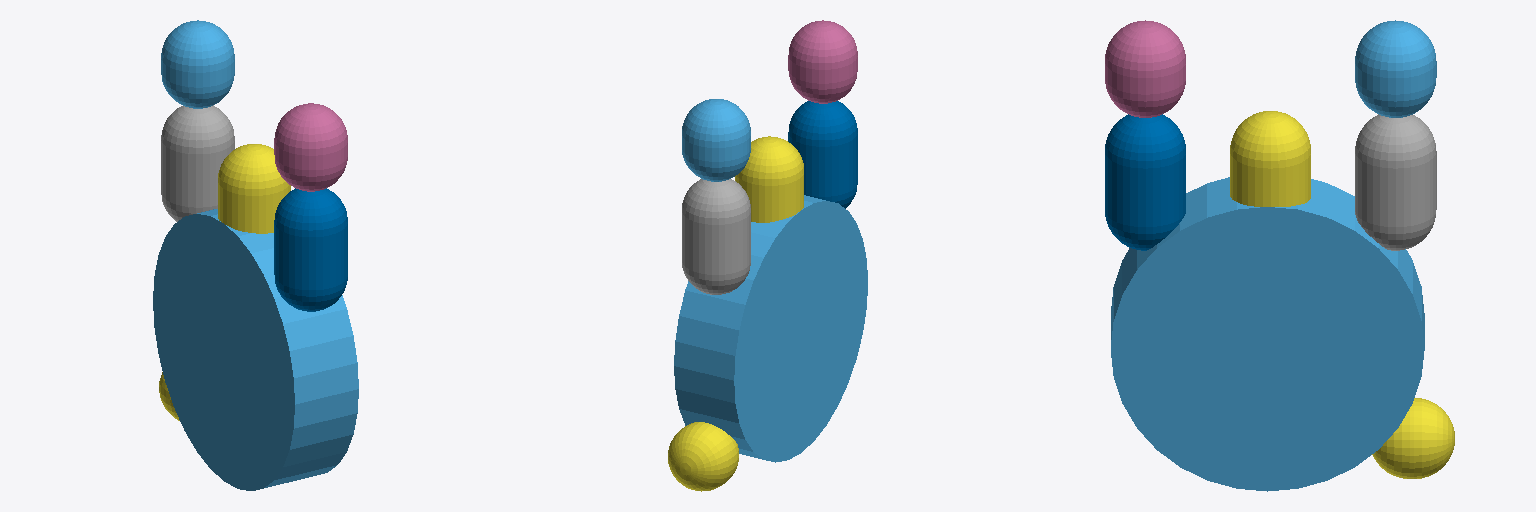
URDF robot description (DexterousHand):
<?xml version="1.0"?>
<robot name="DexterousHand">


    <link name="world"/>
    <joint name="world_to_palm" type="fixed">
        <parent link="world"/>
        <child link="palm"/>
        <origin xyz="0 0 0" rpy="0 0 0"/>
    </joint>
    <link name="palm">
        <inertial>
            <origin xyz="0 0 0.057" rpy="0 0 0"/>
            <mass value="0.30212892864"/>
            <inertia ixx="0.00049080844457568" ixy="0.0" ixz="0.0" iyy="0.00026746366246427523" iyz="0.0" izz="0.00026746366246427523"/>
        </inertial>
        <visual>
            <origin xyz="0 0 0.057" rpy="1.5708 0 1.5708"/>
            <geometry>
                <cylinder radius="0.057" length="0.0296"/>
            </geometry>
            <material name="default"/>
        </visual>
        <collision>
            <origin xyz="0 0 0.057" rpy="1.5708 0 1.5708"/>
            <geometry>
                <cylinder radius="0.057" length="0.0296"/>
            </geometry>
        </collision>
    </link>

    
    <joint name="thumb_joint1" type="revolute">
        <parent link="palm"/>
        <child link="thumb_base"/>
        <origin xyz="0.0029 0.0368 0.0157" rpy="-1.5708 -1.5708 0.0"/>
        <axis xyz="-1 0 0"/>
        <limit lower="-0.349" upper="2.094" effort="1.0" velocity="1.0"/>
    </joint>

    <link name="thumb_base"></link>

    <joint name="thumb_joint2" type="revolute">
        <parent link="thumb_base"/>
        <child link="thumb_proximal"/>
        <origin xyz="0.0 0.0 0.0" rpy="0.0 0.0 0.0"/>
        <axis xyz="0 0 1"/>
        <limit lower="-0.47" upper="2.443" effort="1.0" velocity="1.0"/>
    </joint>

    <link name="thumb_proximal">
        <inertial>
            <origin xyz="0 0 0.01565" rpy="0 0 0"/>
            <mass value="0.021538658803200002"/>
            <inertia ixx="2.9378910096388167e-06" ixy="0.0" ixz="0.0" 
            iyy="2.9378910096388167e-06" iyz="0.0" izz="2.358913912126464e-06"/>
        </inertial>
        <visual>
            <origin xyz="0 0 0.01565" rpy="0 0 0"/>
            <geometry>
                <cylinder radius="0.0148" length="0.0017000000000000001"/>
            </geometry>
            <material name="default"/>
        </visual>
        <visual>
            <origin xyz="0 0 0.0148" rpy="0 0 0"/>
            <geometry>
                <sphere radius="0.0148"/>
            </geometry>
            <material name="default"/>
        </visual>
        <visual>
            <origin xyz="0 0 0.0165" rpy="0 0 0"/>
            <geometry>
                <sphere radius="0.0148"/>
            </geometry>
            <material name="default"/>
        </visual>
        <collision>
            <origin xyz="0 0 0.01565" rpy="0 0 0"/>
            <geometry>
                <cylinder radius="0.0148" length="0.0017000000000000001"/>
            </geometry>
        </collision>
        <collision>
            <origin xyz="0 0 0.0148" rpy="0 0 0"/>
            <geometry>
                <sphere radius="0.0148"/>
            </geometry>
        </collision>
        <collision>
            <origin xyz="0 0 0.0165" rpy="0 0 0"/>
            <geometry>
                <sphere radius="0.0148"/>
            </geometry>
        </collision>
    </link>

    <joint name="thumb_joint3" type="revolute">
        <parent link="thumb_proximal"/>
        <child link="thumb_knuckle"/>
        <origin xyz="0.0 0.0 0.0" rpy="0.0 0.0 0.0"/>
        <axis xyz="1 0 0"/>
        <limit lower="0.0" upper="0.0" effort="1.0" velocity="1.0"/>
    </joint>

    <link name="thumb_knuckle"></link>

    <joint name="thumb_joint4" type="revolute">
        <parent link="thumb_knuckle"/>
        <child link="thumb_middle"/>
        <origin xyz="0 0 0" rpy="0 0 0"/> 
        <axis xyz="0 1 0"/>
        <limit lower="0.0" upper="0.0" effort="1.0" velocity="1.0"/>
    </joint>

    <link name="thumb_middle">
    </link>

    <joint name="thumb_joint5" type="revolute">
        <parent link="thumb_middle"/>
        <child link="thumb_distal"/>
        <origin xyz="0 0 0" rpy="0 0 0"/> 
        <axis xyz="0 1 0"/>
        <limit lower="0.0" upper="0.0" effort="1.0" velocity="1.0"/>
    </joint>

    <link name="thumb_distal">
    </link>

    
    <joint name="index_joint1" type="revolute">
        <parent link="palm"/>
        <child link="index_proximal"/>
        <origin xyz="0.0 0.0465 0.091" rpy="0.0 0.0 0.0"/>
        <axis xyz="0 1 0"/>
        <limit lower="-0.314" upper="2.23" effort="1.0" velocity="1.0"/>
    </joint>

    <link name="index_proximal">
        <inertial>
            <origin xyz="0 0 0.02655" rpy="0 0 0"/>
            <mass value="0.036540024998400006"/>
            <inertia ixx="1.058665009272394e-05" ixy="0.0" ixz="0.0" 
            iyy="1.058665009272394e-05" iyz="0.0" izz="4.001863537824769e-06"/>
        </inertial>
        <visual>
            <origin xyz="0 0 0.02655" rpy="0 0 0"/>
            <geometry>
                <cylinder radius="0.0148" length="0.0235"/>
            </geometry>
            <material name="default"/>
        </visual>
        <visual>
            <origin xyz="0 0 0.0148" rpy="0 0 0"/>
            <geometry>
                <sphere radius="0.0148"/>
            </geometry>
            <material name="default"/>
        </visual>
        <visual>
            <origin xyz="0 0 0.0383" rpy="0 0 0"/>
            <geometry>
                <sphere radius="0.0148"/>
            </geometry>
            <material name="default"/>
        </visual>
        <collision>
            <origin xyz="0 0 0.02655" rpy="0 0 0"/>
            <geometry>
                <cylinder radius="0.0148" length="0.0235"/>
            </geometry>
        </collision>
        <collision>
            <origin xyz="0 0 0.0148" rpy="0 0 0"/>
            <geometry>
                <sphere radius="0.0148"/>
            </geometry>
        </collision>
        <collision>
            <origin xyz="0 0 0.0383" rpy="0 0 0"/>
            <geometry>
                <sphere radius="0.0148"/>
            </geometry>
        </collision>
    </link>

    <joint name="index_joint2" type="revolute">
        <parent link="index_proximal"/>
        <child link="index_dummy"/>
        <origin xyz="0.0 0.0 0.038" rpy="0.0 0.0 0.0"/>
        <axis xyz="1 0 0"/>
        <limit lower="-1.047" upper="1.047" effort="1.0" velocity="1.0"/>
    </joint>

    <link name="index_dummy"></link>

    <joint name="index_joint3" type="revolute">
        <parent link="index_dummy"/>
        <child link="index_middle"/>
        <origin xyz="0 0 0.015100000000000002" rpy="0 0 0"/>
        <axis xyz="0 1 0"/>
        <limit lower="-0.506" upper="1.885" effort="1.0" velocity="1.0"/>
    </joint>

    <link name="index_middle">
        <inertial>
            <origin xyz="0 0 0.01805" rpy="0 0 0"/>
            <mass value="0.0248417119104"/>
            <inertia ixx="4.058162759109537e-06" ixy="0.0" ixz="0.0" 
            iyy="4.058162759109537e-06" iyz="0.0" izz="2.7206642884270085e-06"/>
        </inertial>
        <visual>
            <origin xyz="0 0 0.01805" rpy="0 0 0"/>
            <geometry>
                <cylinder radius="0.0148" length="0.006499999999999999"/>
            </geometry>
            <material name="default"/>
        </visual>
        <visual>
            <origin xyz="0 0 0.0148" rpy="0 0 0"/>
            <geometry>
                <sphere radius="0.0148"/>
            </geometry>
            <material name="default"/>
        </visual>
        <visual>
            <origin xyz="0 0 0.0213" rpy="0 0 0"/>
            <geometry>
                <sphere radius="0.0148"/>
            </geometry>
            <material name="default"/>
        </visual>
        <collision>
            <origin xyz="0 0 0.01805" rpy="0 0 0"/>
            <geometry>
                <cylinder radius="0.0148" length="0.006499999999999999"/>
            </geometry>
        </collision>
        <collision>
            <origin xyz="0 0 0.0148" rpy="0 0 0"/>
            <geometry>
                <sphere radius="0.0148"/>
            </geometry>
        </collision>
        <collision>
            <origin xyz="0 0 0.0213" rpy="0 0 0"/>
            <geometry>
                <sphere radius="0.0148"/>
            </geometry>
        </collision>
    </link>

    <joint name="index_joint4" type="revolute">
        <parent link="index_middle"/>
        <child link="index_distal"/>
        <origin xyz="0 0 0.0361" rpy="0 0 0"/> 
        <axis xyz="0 1 0"/>
        <limit lower="0.0" upper="0.0" effort="1.0" velocity="1.0"/>
    </joint>

    <link name="index_distal">
    </link>

    
    <joint name="middle_joint1" type="revolute">
        <parent link="palm"/>
        <child link="middle_proximal"/>
        <origin xyz="0.0 0.0011 0.091" rpy="0.0 0.0 0.0"/>
        <axis xyz="0 1 0"/>
        <limit lower="-0.314" upper="2.23" effort="1.0" velocity="1.0"/>
    </joint>

    <link name="middle_proximal">
        <inertial>
            <origin xyz="0 0 0.02655" rpy="0 0 0"/>
            <mass value="0.036540024998400006"/>
            <inertia ixx="1.058665009272394e-05" ixy="0.0" ixz="0.0" 
            iyy="1.058665009272394e-05" iyz="0.0" izz="4.001863537824769e-06"/>
        </inertial>
        <visual>
            <origin xyz="0 0 0.02655" rpy="0 0 0"/>
            <geometry>
                <cylinder radius="0.0148" length="0.0235"/>
            </geometry>
            <material name="default"/>
        </visual>
        <visual>
            <origin xyz="0 0 0.0148" rpy="0 0 0"/>
            <geometry>
                <sphere radius="0.0148"/>
            </geometry>
            <material name="default"/>
        </visual>
        <visual>
            <origin xyz="0 0 0.0383" rpy="0 0 0"/>
            <geometry>
                <sphere radius="0.0148"/>
            </geometry>
            <material name="default"/>
        </visual>
        <collision>
            <origin xyz="0 0 0.02655" rpy="0 0 0"/>
            <geometry>
                <cylinder radius="0.0148" length="0.0235"/>
            </geometry>
        </collision>
        <collision>
            <origin xyz="0 0 0.0148" rpy="0 0 0"/>
            <geometry>
                <sphere radius="0.0148"/>
            </geometry>
        </collision>
        <collision>
            <origin xyz="0 0 0.0383" rpy="0 0 0"/>
            <geometry>
                <sphere radius="0.0148"/>
            </geometry>
        </collision>
    </link>

    <joint name="middle_joint2" type="revolute">
        <parent link="middle_proximal"/>
        <child link="middle_dummy"/>
        <origin xyz="0.0 0.0 0.038" rpy="0.0 0.0 0.0"/>
        <axis xyz="0 1 0"/>
        <limit lower="0.0" upper="0.0" effort="1.0" velocity="1.0"/>
    </joint>

    <link name="middle_dummy"></link>

    <joint name="middle_joint3" type="revolute">
        <parent link="middle_dummy"/>
        <child link="middle_middle"/>
        <origin xyz="0 0 0.015100000000000002" rpy="0 0 0"/>
        <axis xyz="0 1 0"/>
        <limit lower="0.0" upper="0.0" effort="1.0" velocity="1.0"/>
    </joint>

    <link name="middle_middle">
    </link>

    <joint name="middle_joint4" type="revolute">
        <parent link="middle_middle"/>
        <child link="middle_distal"/>
        <origin xyz="0 0 0" rpy="0 0 0"/> 
        <axis xyz="0 1 0"/>
        <limit lower="0.0" upper="0.0" effort="1.0" velocity="1.0"/>
    </joint>

    <link name="middle_distal">
    </link>

    
    <joint name="ring_joint1" type="revolute">
        <parent link="palm"/>
        <child link="ring_proximal"/>
        <origin xyz="0.0 0.0 0.0" rpy="0.0 0.0 0.0"/>
        <axis xyz="1 0 0"/>
        <limit lower="0.0" upper="0.0" effort="1.0" velocity="1.0"/>
    </joint>

    <link name="ring_proximal">
    </link>

    <joint name="ring_joint2" type="revolute">
        <parent link="ring_proximal"/>
        <child link="ring_dummy"/>
        <origin xyz="0.0 0.0 0.0" rpy="0.0 0.0 0.0"/>
        <axis xyz="0 1 0"/>
        <limit lower="0.0" upper="0.0" effort="1.0" velocity="1.0"/>
    </joint>

    <link name="ring_dummy"></link>

    <joint name="ring_joint3" type="revolute">
        <parent link="ring_dummy"/>
        <child link="ring_middle"/>
        <origin xyz="0 0 0" rpy="0 0 0"/>
        <axis xyz="0 1 0"/>
        <limit lower="0.0" upper="0.0" effort="1.0" velocity="1.0"/>
    </joint>

    <link name="ring_middle">
    </link>

    <joint name="ring_joint4" type="revolute">
        <parent link="ring_middle"/>
        <child link="ring_distal"/>
        <origin xyz="0 0 0" rpy="0 0 0"/> 
        <axis xyz="0 1 0"/>
        <limit lower="0.0" upper="0.0" effort="1.0" velocity="1.0"/>
    </joint>

    <link name="ring_distal">
    </link>

    
    <joint name="little_joint0" type="revolute">
        <parent link="palm"/>
        <child link="little_base"/>
        <origin xyz="0.0 0.0 0.0" rpy="0.0 0.0 0.0"/>
        <axis xyz="0 1 0"/>
        <limit lower="0.0" upper="0.0" effort="1.0" velocity="1.0"/>
    </joint>

    <link name="little_base"></link>

    <joint name="little_joint1" type="revolute">
        <parent link="little_base"/>
        <child link="little_proximal"/>
        <origin xyz="0.0 -0.0443 0.091" rpy="-0.0 -0.0 -0.0"/>
        <axis xyz="0 1 0"/>
        <limit lower="-0.314" upper="2.23" effort="1.0" velocity="1.0"/>
    </joint>

    <link name="little_proximal">
        <inertial>
            <origin xyz="0 0 0.02655" rpy="0 0 0"/>
            <mass value="0.036540024998400006"/>
            <inertia ixx="1.058665009272394e-05" ixy="0.0" ixz="0.0" 
            iyy="1.058665009272394e-05" iyz="0.0" izz="4.001863537824769e-06"/>
        </inertial>
        <visual>
            <origin xyz="0 0 0.02655" rpy="0 0 0"/>
            <geometry>
                <cylinder radius="0.0148" length="0.0235"/>
            </geometry>
            <material name="default"/>
        </visual>
        <visual>
            <origin xyz="0 0 0.0148" rpy="0 0 0"/>
            <geometry>
                <sphere radius="0.0148"/>
            </geometry>
            <material name="default"/>
        </visual>
        <visual>
            <origin xyz="0 0 0.0383" rpy="0 0 0"/>
            <geometry>
                <sphere radius="0.0148"/>
            </geometry>
            <material name="default"/>
        </visual>
        <collision>
            <origin xyz="0 0 0.02655" rpy="0 0 0"/>
            <geometry>
                <cylinder radius="0.0148" length="0.0235"/>
            </geometry>
        </collision>
        <collision>
            <origin xyz="0 0 0.0148" rpy="0 0 0"/>
            <geometry>
                <sphere radius="0.0148"/>
            </geometry>
        </collision>
        <collision>
            <origin xyz="0 0 0.0383" rpy="0 0 0"/>
            <geometry>
                <sphere radius="0.0148"/>
            </geometry>
        </collision>
    </link>

    <joint name="little_joint2" type="revolute">
        <parent link="little_proximal"/>
        <child link="little_dummy"/>
        <origin xyz="0.0 0.0 0.038" rpy="0.0 0.0 0.0"/>
        <axis xyz="1 0 0"/>
        <limit lower="-1.047" upper="1.047" effort="1.0" velocity="1.0"/>
    </joint>

    <link name="little_dummy"></link>

    <joint name="little_joint3" type="revolute">
        <parent link="little_dummy"/>
        <child link="little_middle"/>
        <origin xyz="0 0 0.015100000000000002" rpy="0 0 0"/>
        <axis xyz="0 1 0"/>
        <limit lower="-0.506" upper="1.885" effort="1.0" velocity="1.0"/>
    </joint>

    <link name="little_middle">
        <inertial>
            <origin xyz="0 0 0.01805" rpy="0 0 0"/>
            <mass value="0.0248417119104"/>
            <inertia ixx="4.058162759109537e-06" ixy="0.0" ixz="0.0" 
            iyy="4.058162759109537e-06" iyz="0.0" izz="2.7206642884270085e-06"/>
        </inertial>
        <visual>
            <origin xyz="0 0 0.01805" rpy="0 0 0"/>
            <geometry>
                <cylinder radius="0.0148" length="0.006499999999999999"/>
            </geometry>
            <material name="default"/>
        </visual>
        <visual>
            <origin xyz="0 0 0.0148" rpy="0 0 0"/>
            <geometry>
                <sphere radius="0.0148"/>
            </geometry>
            <material name="default"/>
        </visual>
        <visual>
            <origin xyz="0 0 0.0213" rpy="0 0 0"/>
            <geometry>
                <sphere radius="0.0148"/>
            </geometry>
            <material name="default"/>
        </visual>
        <collision>
            <origin xyz="0 0 0.01805" rpy="0 0 0"/>
            <geometry>
                <cylinder radius="0.0148" length="0.006499999999999999"/>
            </geometry>
        </collision>
        <collision>
            <origin xyz="0 0 0.0148" rpy="0 0 0"/>
            <geometry>
                <sphere radius="0.0148"/>
            </geometry>
        </collision>
        <collision>
            <origin xyz="0 0 0.0213" rpy="0 0 0"/>
            <geometry>
                <sphere radius="0.0148"/>
            </geometry>
        </collision>
    </link>

    <joint name="little_joint4" type="revolute">
        <parent link="little_middle"/>
        <child link="little_distal"/>
        <origin xyz="0 0 0.0361" rpy="0 0 0"/>
        <axis xyz="0 1 0"/>
        <limit lower="0.0" upper="0.0" effort="1.0" velocity="1.0"/>
    </joint>

    <link name="little_distal">
    </link>

</robot>

--- What the picture shows (computed from the rendered views, not written in the file) ---
The picture shows the robot from 3 angles, left to right: view 1: azimuth 30°, elevation 25°; view 2: azimuth 150°, elevation 25°; view 3: azimuth 270°, elevation 25°; orthographic projection.
Robot: DexterousHand — 24 links, 23 joints (22 revolute, 1 fixed); root link world; default pose: every joint at zero.
Visible links, largest first — view 1: palm, little_proximal, index_proximal, little_middle, index_middle, middle_proximal; view 2: palm, index_proximal, little_proximal, little_middle, index_middle, middle_proximal, thumb_proximal; view 3: palm, index_proximal, little_proximal, middle_proximal, index_middle, little_middle, thumb_proximal.
Boxes of the visible links, x1,y1,x2,y2 form: palm: (153,209,358,490); little_proximal: (274,188,347,311); index_proximal: (161,105,234,221); little_middle: (274,103,347,191); index_middle: (161,20,234,108); middle_proximal: (218,144,290,233); palm: (674,195,867,462); index_proximal: (682,179,750,294); little_proximal: (788,101,857,208); little_middle: (788,20,857,103); index_middle: (682,99,750,181); middle_proximal: (735,136,803,222); thumb_proximal: (668,422,738,491); palm: (1111,177,1424,491); index_proximal: (1355,114,1436,250); little_proximal: (1105,114,1185,250); middle_proximal: (1230,111,1310,206); index_middle: (1355,20,1436,117); little_middle: (1105,20,1185,117); thumb_proximal: (1372,398,1454,478).
Bounding box of the posed robot: 0.0325 × 0.1272 × 0.1802 m (x, y, z).
Geometry: primitives only (box / cylinder / sphere), no mesh files.
